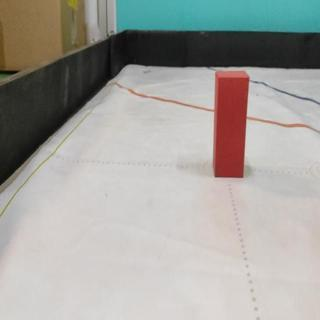redbox: (212, 69, 250, 178)
